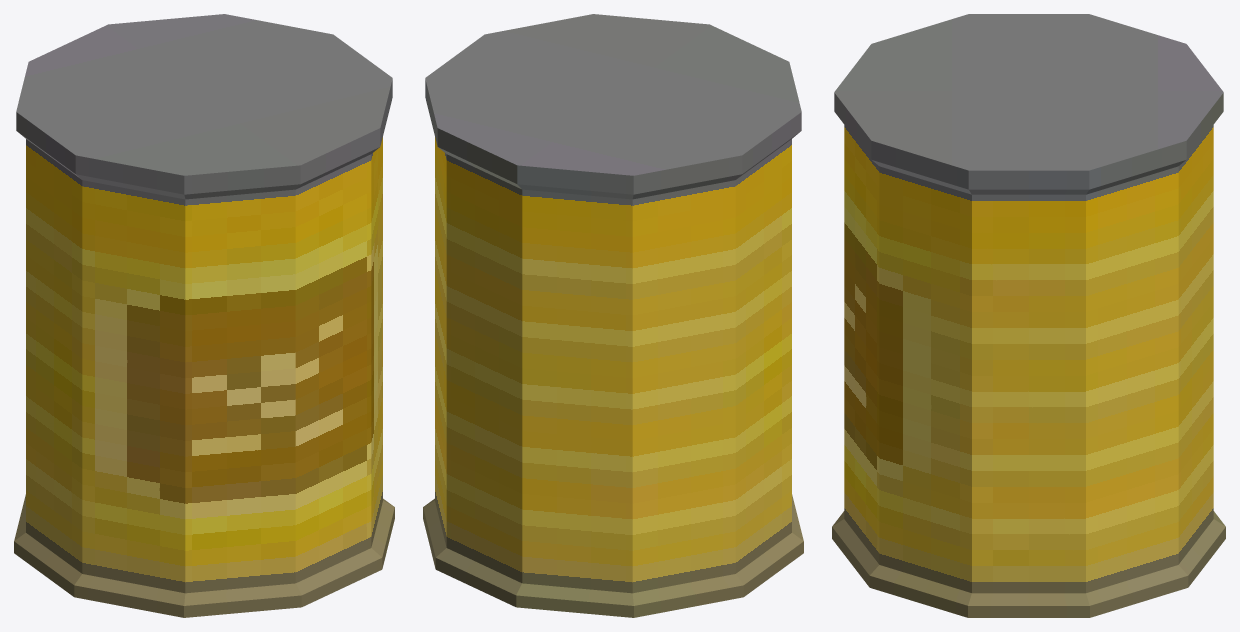
The model's file is CanUnity.fbx.
3 renders of one model, left to right at view 1: azimuth 30°, elevation 25°; view 2: azimuth 150°, elevation 25°; view 3: azimuth 270°, elevation 25°, orthographic.
Parts seen in each view (by area): view 1: Cylinder; view 2: Cylinder; view 3: Cylinder.
Part boxes in pixels (x1,y1,x2,y2): Cylinder: (14, 14, 394, 617); Cylinder: (423, 14, 803, 617); Cylinder: (832, 14, 1225, 617).
Size of the model in its own units: 203 by 267 by 213.
